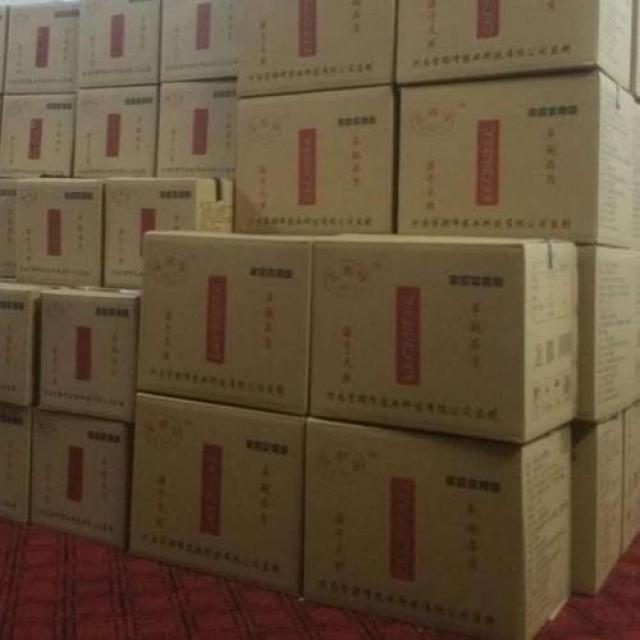box: (303, 416, 572, 640), (306, 230, 577, 445), (396, 70, 640, 247), (128, 390, 306, 598), (136, 229, 326, 417), (236, 83, 399, 233), (394, 0, 635, 95), (236, 0, 397, 99), (104, 178, 236, 289), (29, 410, 133, 550), (38, 283, 142, 422), (576, 247, 640, 424), (17, 177, 105, 288), (571, 410, 623, 595), (156, 78, 237, 179), (72, 84, 159, 178), (77, 0, 160, 88), (4, 0, 78, 95), (159, 0, 237, 84), (0, 279, 51, 407), (0, 93, 77, 177), (0, 402, 33, 524), (623, 399, 640, 553), (0, 177, 17, 280), (0, 5, 10, 95), (632, 0, 640, 104)
